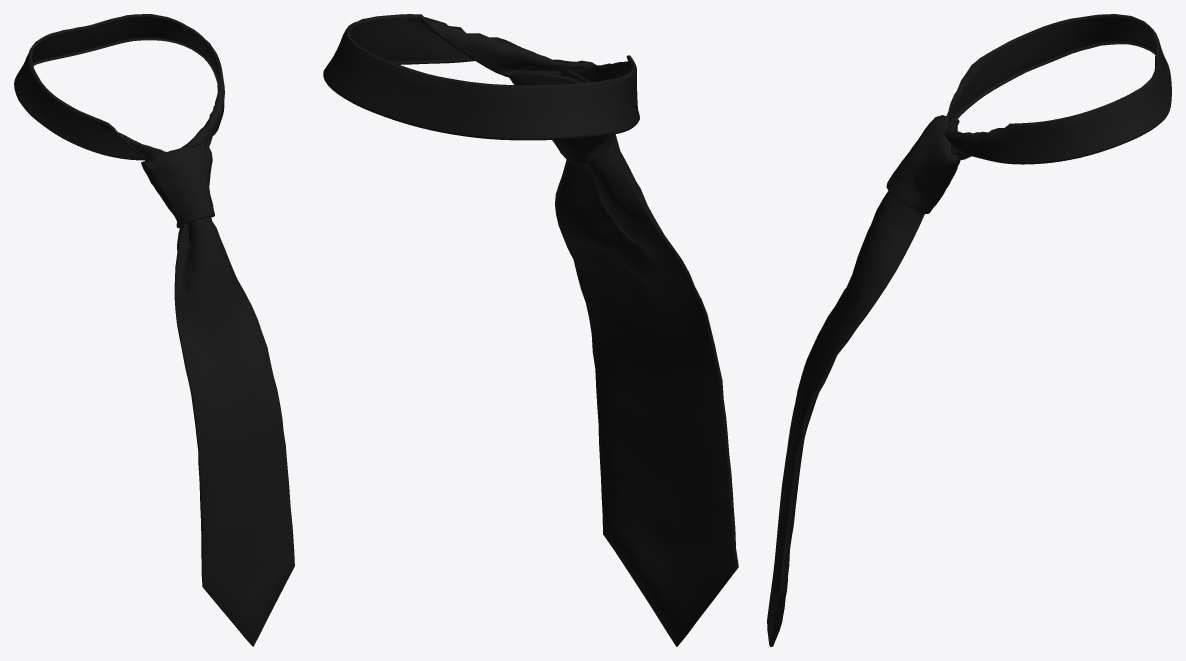
Rendered from Tie.glb.
3 renders of one model, left to right at view 1: azimuth 30°, elevation 25°; view 2: azimuth 150°, elevation 25°; view 3: azimuth 270°, elevation 25°, orthographic. The views are drawn at different scales.
Parts seen in each view (by area): view 1: Object_3; view 2: Object_3; view 3: Object_3.
Part boxes in pixels (bbox=[...]): Object_3: bbox=[14, 14, 294, 646]; Object_3: bbox=[323, 14, 738, 646]; Object_3: bbox=[767, 14, 1171, 646].
Bounding box in the file's own units: 147 × 378 × 234.
1 material, 1 textured.
